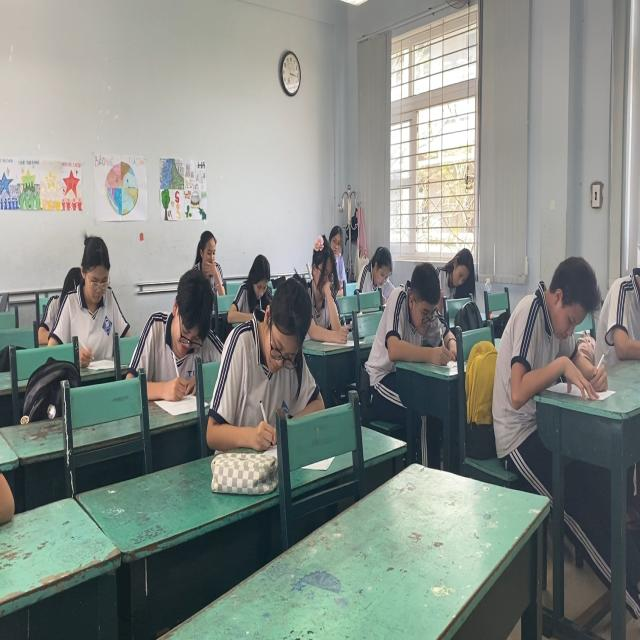not_cheating: (242, 260, 320, 440), (516, 237, 600, 399), (146, 268, 230, 396), (56, 226, 136, 354), (386, 264, 448, 354), (308, 226, 344, 354), (189, 222, 230, 302), (349, 237, 397, 298), (434, 236, 476, 305)
